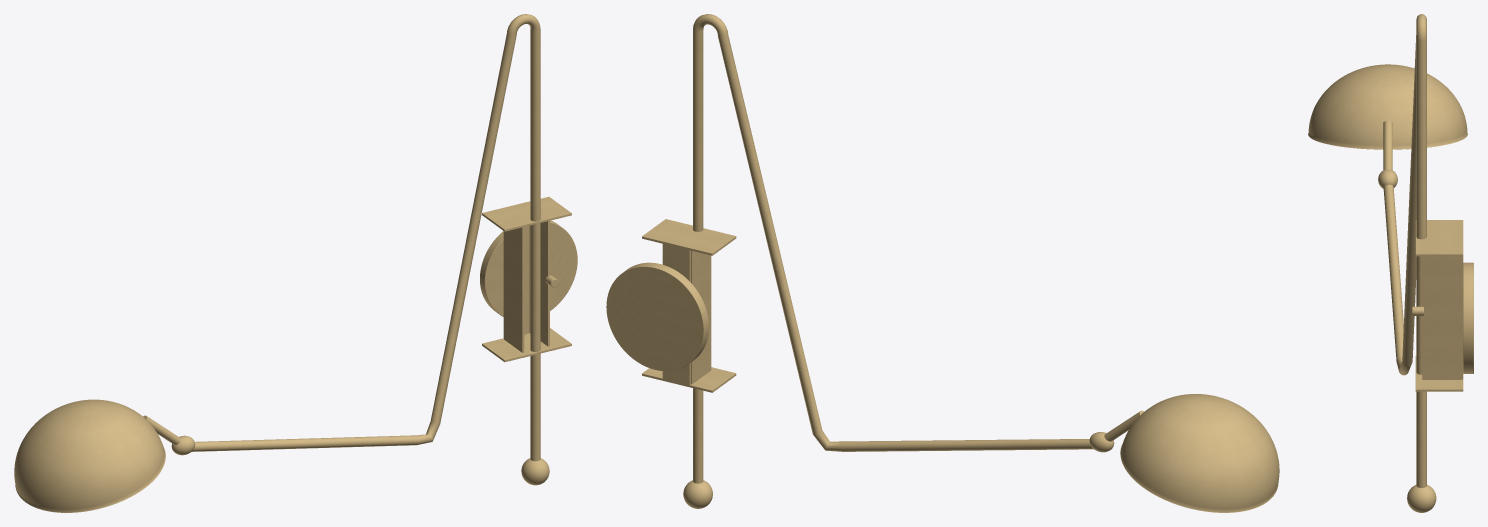
The model's file is adjustable-swing-arm-wall-sconce.glb.
3 renders of one model, left to right at view 1: azimuth 30°, elevation 25°; view 2: azimuth 150°, elevation 25°; view 3: azimuth 270°, elevation 25°, orthographic. The views are drawn at different scales.
Visible parts, largest first — view 1: DomeShade, PivotRodAndArm, WallPlate, BracketSide-1.4, BracketFlange+3.4, BracketSide-0.1, BracketFlange-3.0, BracketWeb; view 2: DomeShade, PivotRodAndArm, WallPlate, BracketFlange+3.4, BracketSide-1.4, BracketWeb, BracketFlange-3.0; view 3: DomeShade, PivotRodAndArm, BracketSide-0.1, BracketFlange+3.4, WallPlate, BracketFlange-3.0, BallFinial, BracketWeb, ShadeNeck, Knuckle.
Boxes of the visible parts, bbox=[...] form: DomeShade: bbox=[14, 399, 165, 512]; PivotRodAndArm: bbox=[192, 14, 540, 461]; WallPlate: bbox=[480, 220, 577, 316]; BracketSide-1.4: bbox=[504, 209, 524, 352]; BracketFlange+3.4: bbox=[482, 196, 571, 231]; BracketSide-0.1: bbox=[529, 209, 549, 346]; BracketFlange-3.0: bbox=[482, 328, 571, 362]; BracketWeb: bbox=[503, 201, 529, 337]; DomeShade: bbox=[1120, 394, 1279, 512]; PivotRodAndArm: bbox=[693, 14, 1093, 483]; WallPlate: bbox=[606, 262, 709, 371]; BracketFlange+3.4: bbox=[642, 219, 736, 255]; BracketSide-1.4: bbox=[690, 233, 711, 384]; BracketWeb: bbox=[662, 240, 690, 386]; BracketFlange-3.0: bbox=[642, 367, 736, 392]; DomeShade: bbox=[1308, 64, 1467, 149]; PivotRodAndArm: bbox=[1383, 14, 1426, 487]; BracketSide-0.1: bbox=[1422, 256, 1460, 379]; BracketFlange+3.4: bbox=[1415, 220, 1463, 256]; WallPlate: bbox=[1463, 262, 1473, 373]; BracketFlange-3.0: bbox=[1415, 356, 1463, 391]; BallFinial: bbox=[1407, 484, 1436, 512]; BracketWeb: bbox=[1460, 256, 1463, 379]; ShadeNeck: bbox=[1383, 121, 1392, 170]; Knuckle: bbox=[1378, 169, 1397, 188].
Bounding box in the file's own units: 0.7563 × 0.5789 × 0.1775.
Materials: 2 (1 with a texture image).
